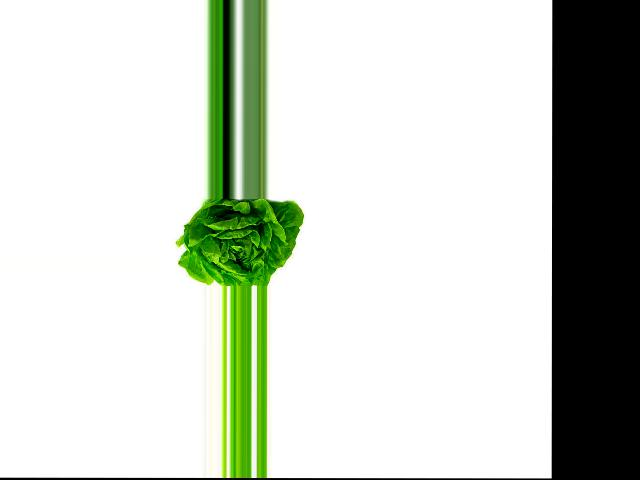lettuce: (181, 197, 306, 285)
